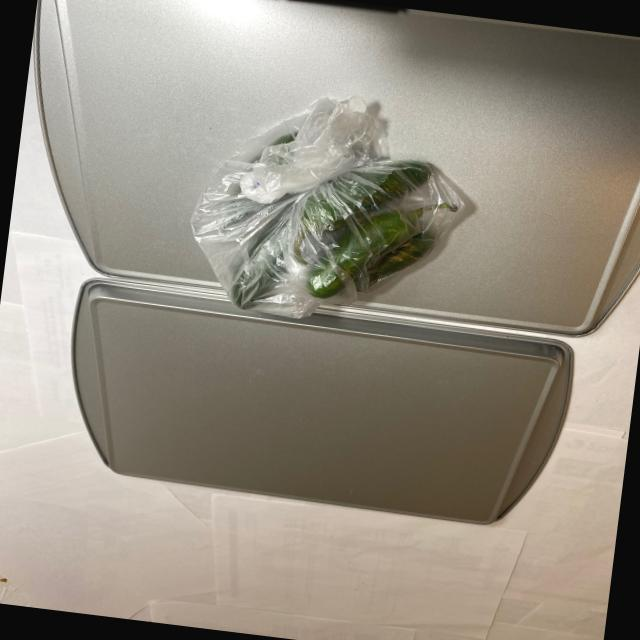chilli: (185, 118, 474, 334)
